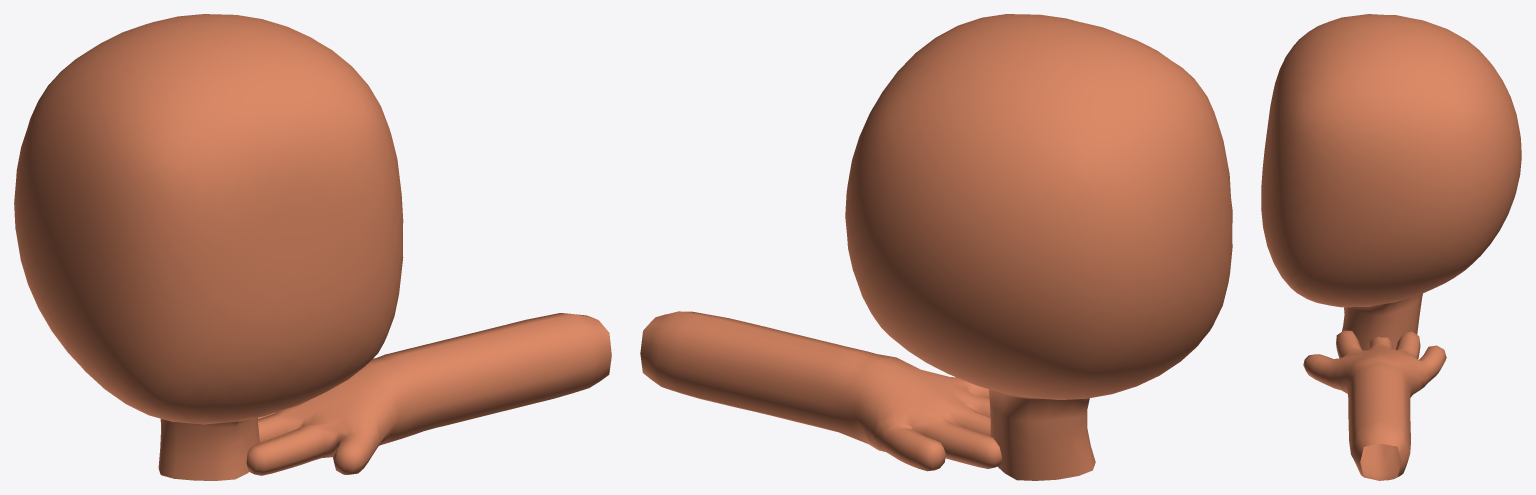
File: modelitoToonCabezav2.fbx
3 renders of one model, left to right at view 1: azimuth 30°, elevation 25°; view 2: azimuth 150°, elevation 25°; view 3: azimuth 270°, elevation 25°, orthographic. The views are drawn at different scales.
Parts seen in each view (by area): view 1: cabeza CHIDO, brazo CHIDO.001; view 2: cabeza CHIDO, brazo CHIDO.001; view 3: cabeza CHIDO, brazo CHIDO.001.
Boxes of the visible parts, bbox=[...] form: cabeza CHIDO: bbox=[14, 14, 403, 480]; brazo CHIDO.001: bbox=[246, 313, 611, 475]; cabeza CHIDO: bbox=[845, 14, 1232, 480]; brazo CHIDO.001: bbox=[640, 311, 1001, 471]; cabeza CHIDO: bbox=[1261, 14, 1521, 350]; brazo CHIDO.001: bbox=[1303, 330, 1446, 480].
Size of the model in its own units: 258 by 199 by 146.
